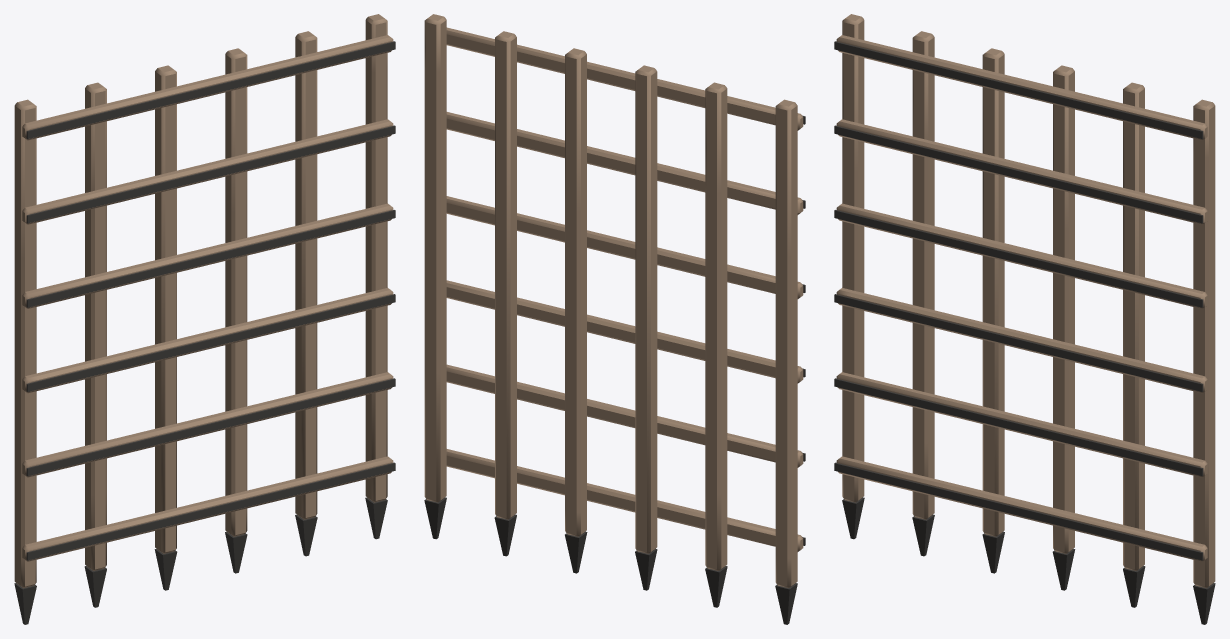
Rendered from Kit_RealGate_Portc.fbx.
3 renders of one model, left to right at view 1: azimuth 30°, elevation 25°; view 2: azimuth 150°, elevation 25°; view 3: azimuth 330°, elevation 25°, orthographic.
Parts seen in each view (by area): view 1: Kit_RealGate_Portc_LOD0; view 2: Kit_RealGate_Portc_LOD0; view 3: Kit_RealGate_Portc_LOD0.
Part boxes in pixels (<box>): Kit_RealGate_Portc_LOD0: <box>14,14,395,624</box>; Kit_RealGate_Portc_LOD0: <box>424,14,805,624</box>; Kit_RealGate_Portc_LOD0: <box>834,14,1215,624</box>.
Size of what is drawn, in the model's own units: 2.56 by 3.46 by 0.181.
